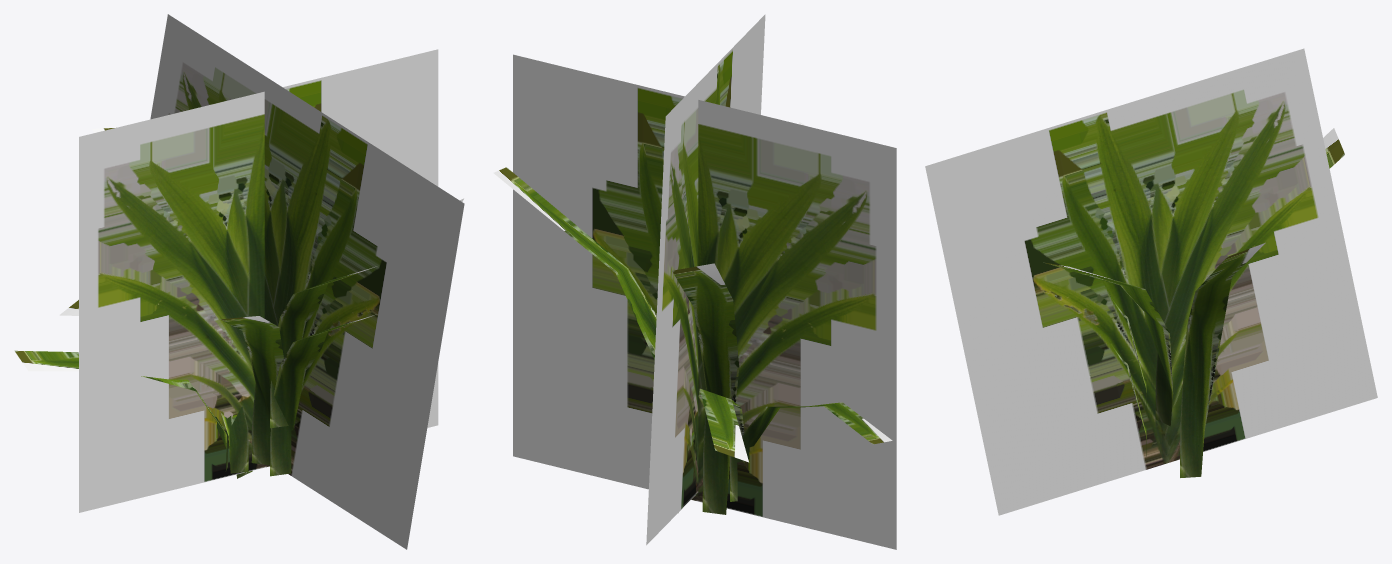
File: leaf grass.dae
3 views of the same model, side by side, from view 1: azimuth 30°, elevation 25°; view 2: azimuth 150°, elevation 25°; view 3: azimuth 270°, elevation 25° (orthographic). The views are drawn at different scales.
Parts seen in each view (by area): view 1: leaf_grass; view 2: leaf_grass; view 3: leaf_grass.
Boxes of the visible parts, x1,y1,x2,y2 form: leaf_grass: (14,14,464,549); leaf_grass: (493,14,896,549); leaf_grass: (925,48,1377,515).
Size of the model in its own units: 41.37 by 45.54 by 43.6.
Materials: 1 (1 with a texture image).
